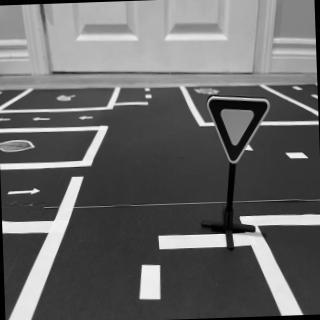road_oneway: (6, 185, 45, 199), (79, 114, 97, 124), (32, 116, 54, 124), (1, 117, 13, 124)
sign_yield: (207, 95, 273, 166)
